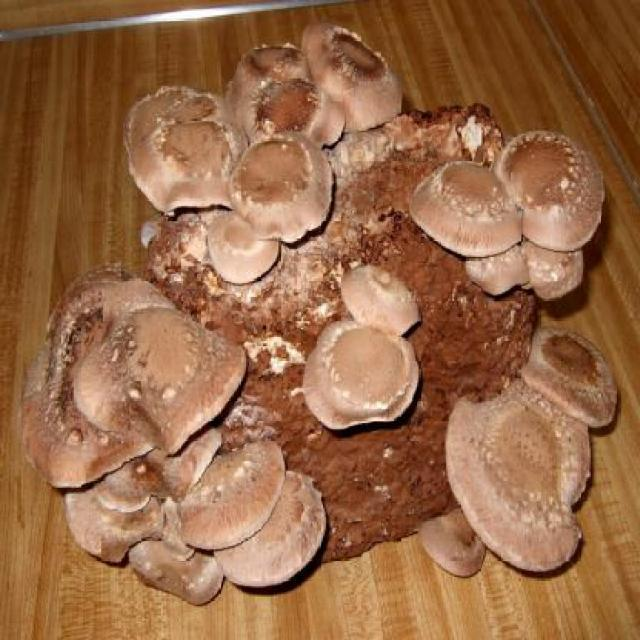Mushroom: (29, 260, 248, 523), (63, 420, 282, 594), (118, 13, 407, 130), (452, 393, 598, 581), (209, 458, 325, 600), (300, 310, 417, 428), (496, 137, 604, 245), (224, 137, 336, 240), (398, 168, 520, 252), (134, 113, 222, 225), (522, 336, 612, 430), (342, 264, 418, 340), (422, 496, 487, 578), (203, 202, 272, 276), (516, 239, 581, 298), (466, 253, 525, 296)
